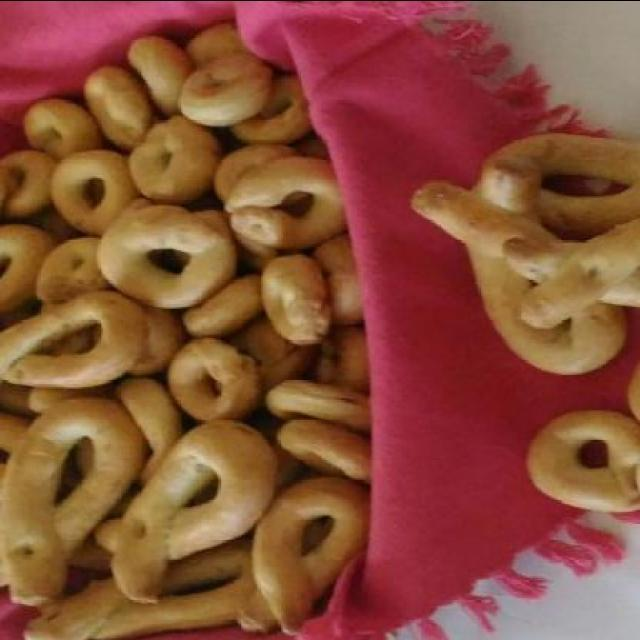Taralli: (11, 1, 374, 639), (408, 125, 640, 541)
